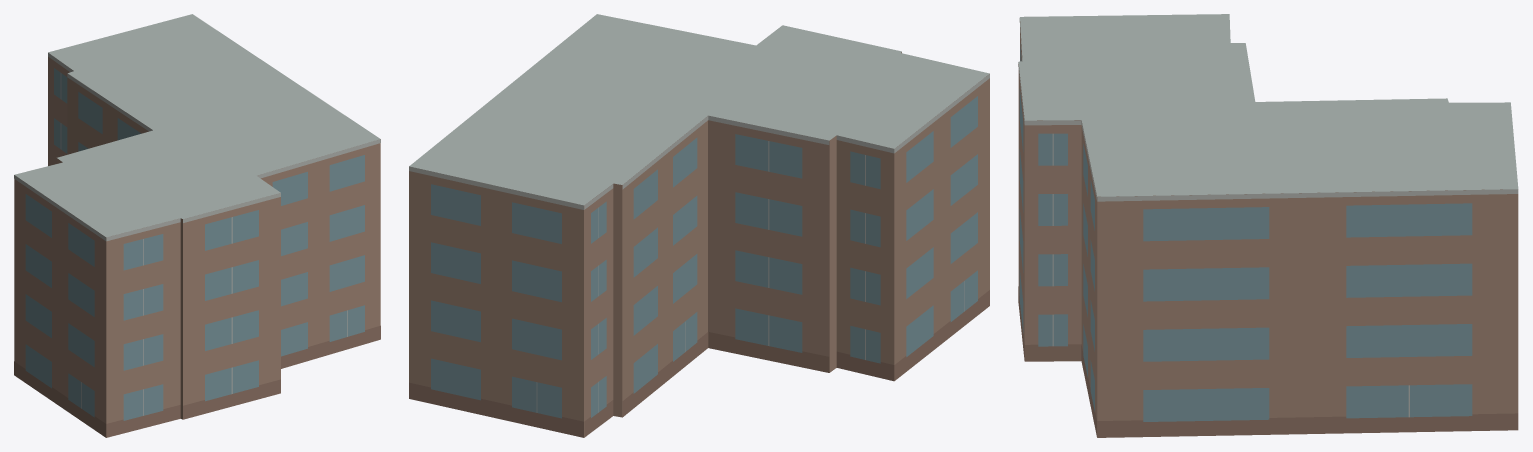
File: survey-upis-32755466.glb
3 views of the same model, side by side, from view 1: azimuth 30°, elevation 25°; view 2: azimuth 150°, elevation 25°; view 3: azimuth 270°, elevation 25° (orthographic). The views are drawn at different scales.
Visible parts, largest first — view 1: survey-upis-32755466.tmp; view 2: survey-upis-32755466.tmp; view 3: survey-upis-32755466.tmp.
Boxes of the visible parts, x1,y1,x2,y2 form: survey-upis-32755466.tmp: [14, 14, 380, 437]; survey-upis-32755466.tmp: [409, 14, 989, 437]; survey-upis-32755466.tmp: [1018, 14, 1518, 437].
Size of the model in its own units: 19.85 by 12.2 by 22.94.
